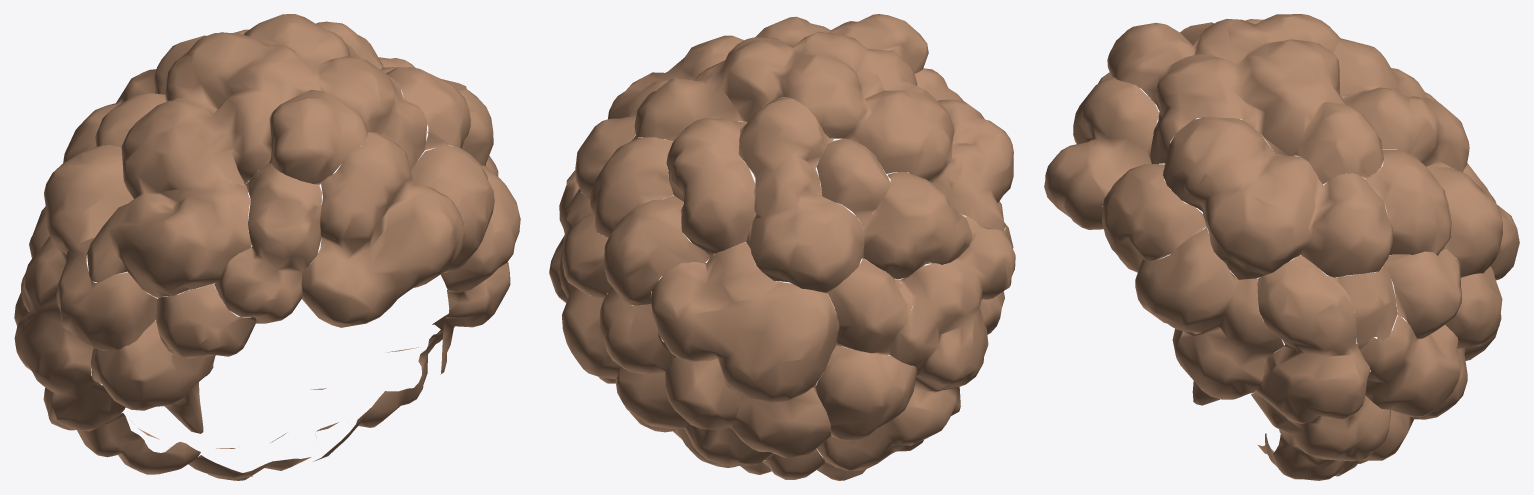
The model's file is hair_06.glb.
The picture shows the model from 3 angles, left to right: view 1: azimuth 30°, elevation 25°; view 2: azimuth 150°, elevation 25°; view 3: azimuth 270°, elevation 25°; orthographic projection. The views are drawn at different scales.
Parts seen in each view (by area): view 1: hair; view 2: hair; view 3: hair.
Boxes of the visible parts, x1,y1,x2,y2 form: hair: (14, 14, 520, 480); hair: (549, 14, 1015, 480); hair: (1044, 14, 1519, 480).
Bounding box in the file's own units: 0.6655 × 0.6234 × 0.6363.
